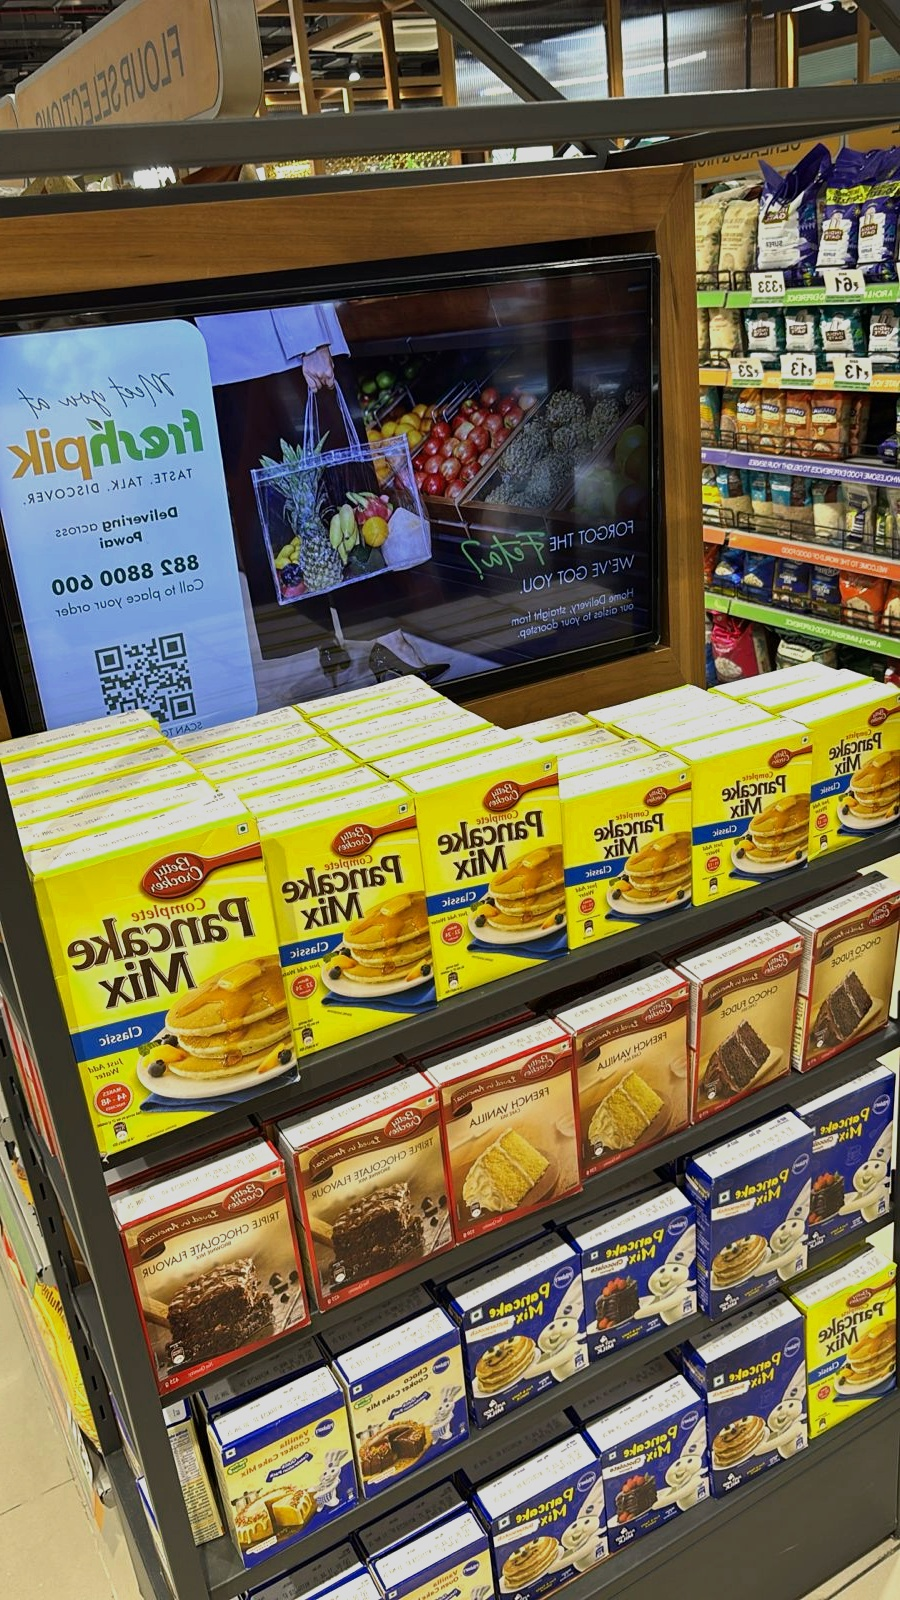Betty Crocker Pancake Mix: (73, 799, 308, 1171), (259, 770, 440, 1078), (404, 730, 576, 1016), (552, 724, 707, 976), (667, 710, 826, 913), (795, 674, 898, 863), (805, 1245, 896, 1452)
